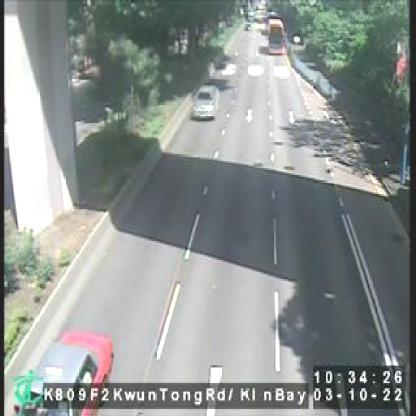Bus: (266, 19, 284, 57)
Car: (190, 80, 218, 116)
